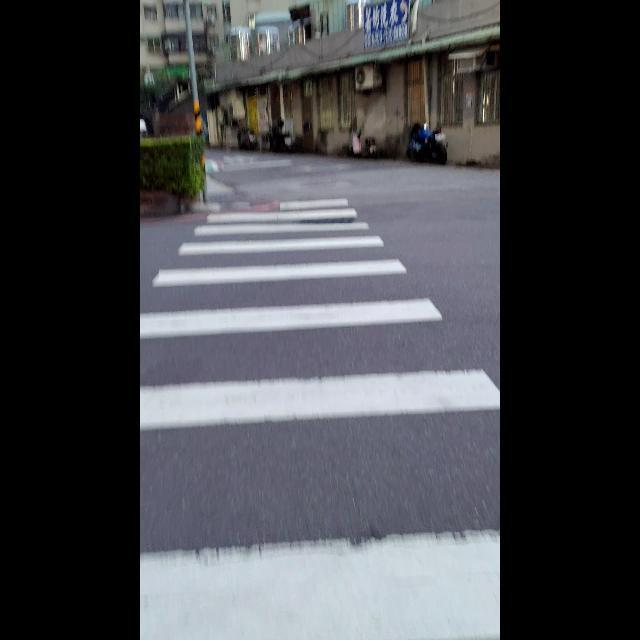sidewalk: (140, 200, 499, 637)
